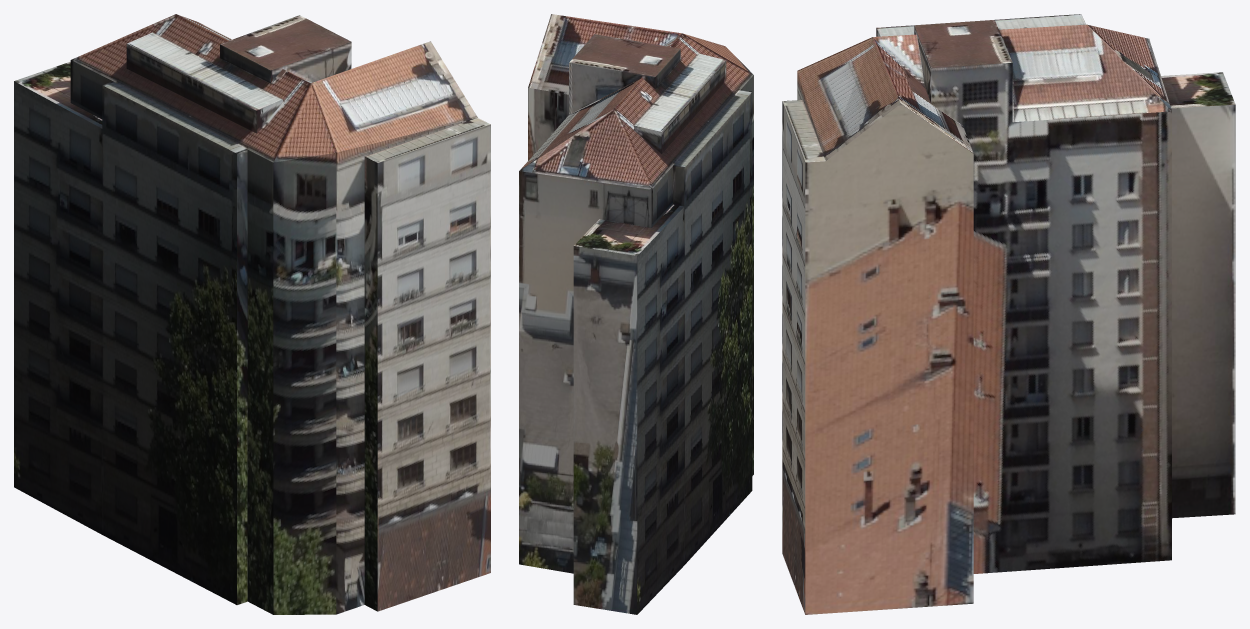
3 renders of one model, left to right at view 1: azimuth 30°, elevation 25°; view 2: azimuth 150°, elevation 25°; view 3: azimuth 270°, elevation 25°, orthographic. The views are drawn at different scales.
Visible parts, largest first — view 1: Z_UP; view 2: Z_UP; view 3: Z_UP.
Boxes of the visible parts, bbox=[...] form: Z_UP: bbox=[14, 14, 490, 614]; Z_UP: bbox=[519, 14, 753, 614]; Z_UP: bbox=[782, 14, 1235, 614].
Size of the model in its own units: 19.02 by 33.95 by 27.41.
2 materials, 1 textured.
